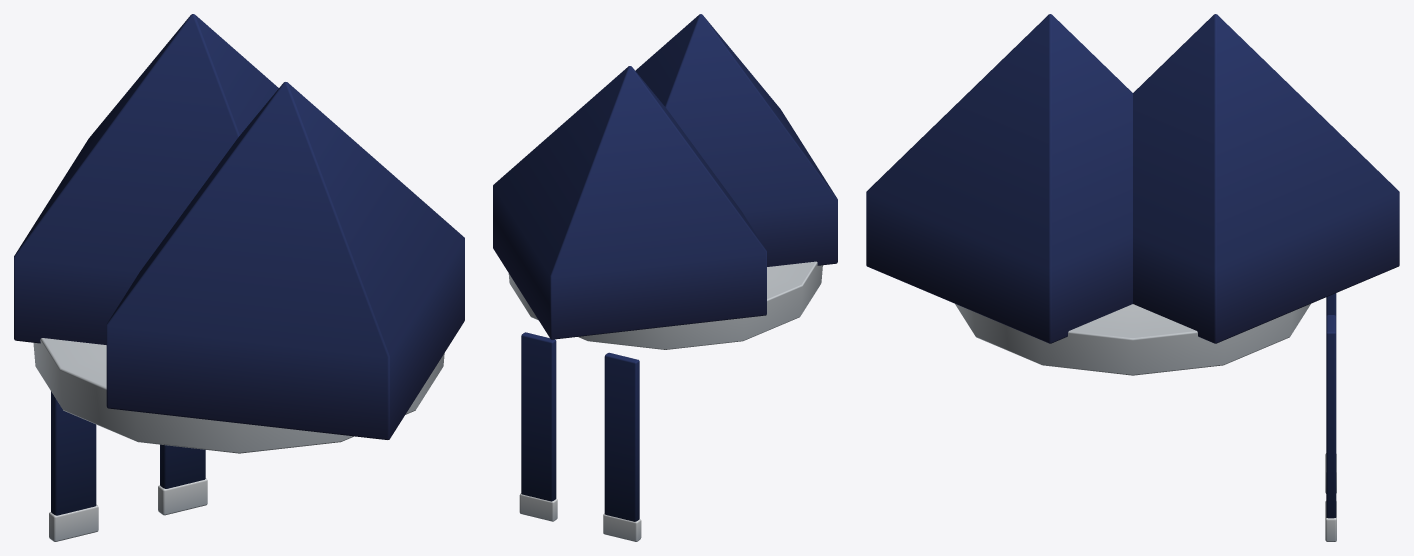
The model's file is lg_midnight_mitre.glb.
3 renders of one model, left to right at view 1: azimuth 30°, elevation 25°; view 2: azimuth 150°, elevation 25°; view 3: azimuth 270°, elevation 25°, orthographic. The views are drawn at different scales.
Parts seen in each view (by area): view 1: lg_midnight_mitre; view 2: lg_midnight_mitre; view 3: lg_midnight_mitre.
Part boxes in pixels (x1,y1,x2,y2): lg_midnight_mitre: [14, 14, 464, 541]; lg_midnight_mitre: [493, 14, 837, 541]; lg_midnight_mitre: [866, 14, 1399, 541].
Bounding box in the file's own units: 2.24 × 3.31 × 3.23.
